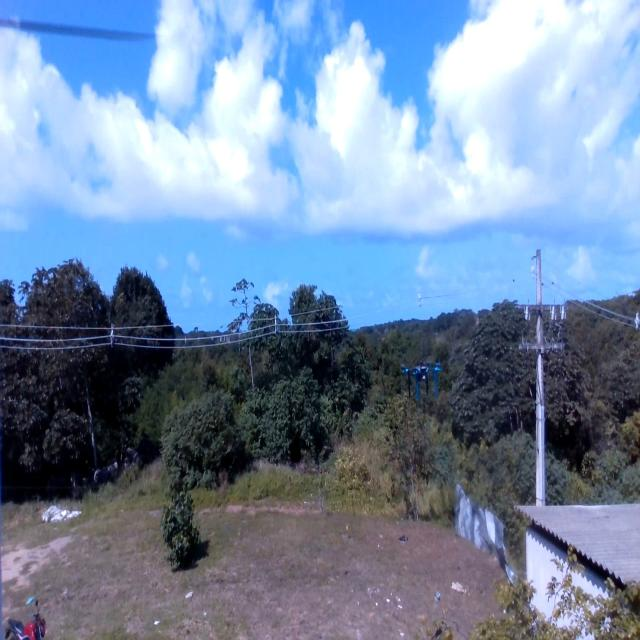-uav-: (394, 346, 451, 411)
